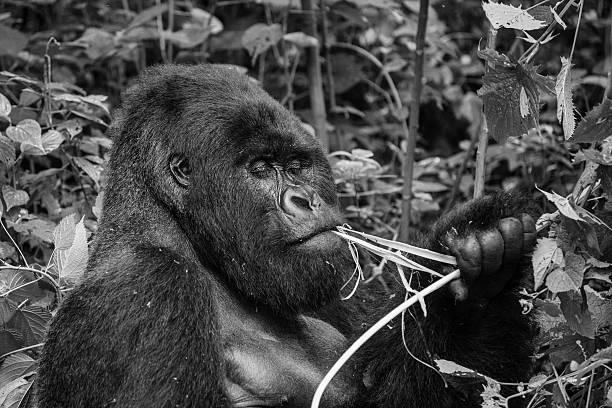goriile_montagne: (76, 56, 404, 405)
